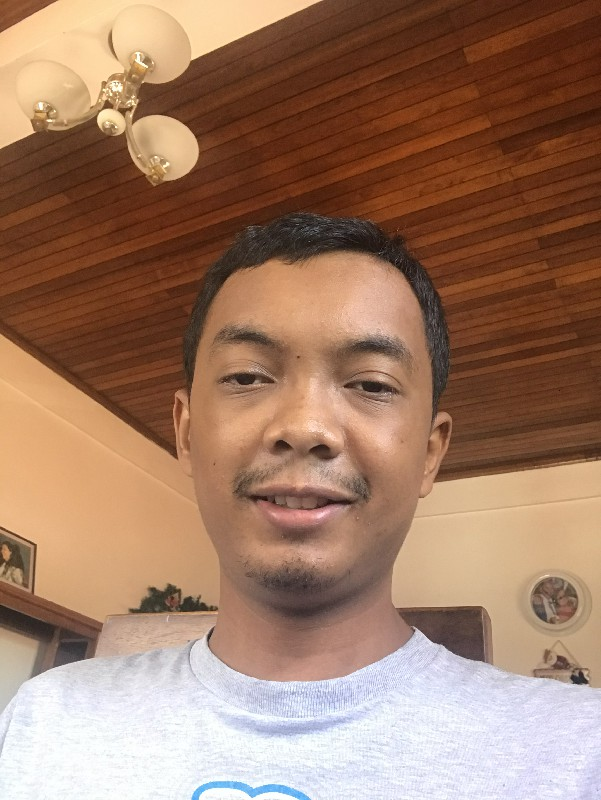BOY: (165, 211, 461, 614)
